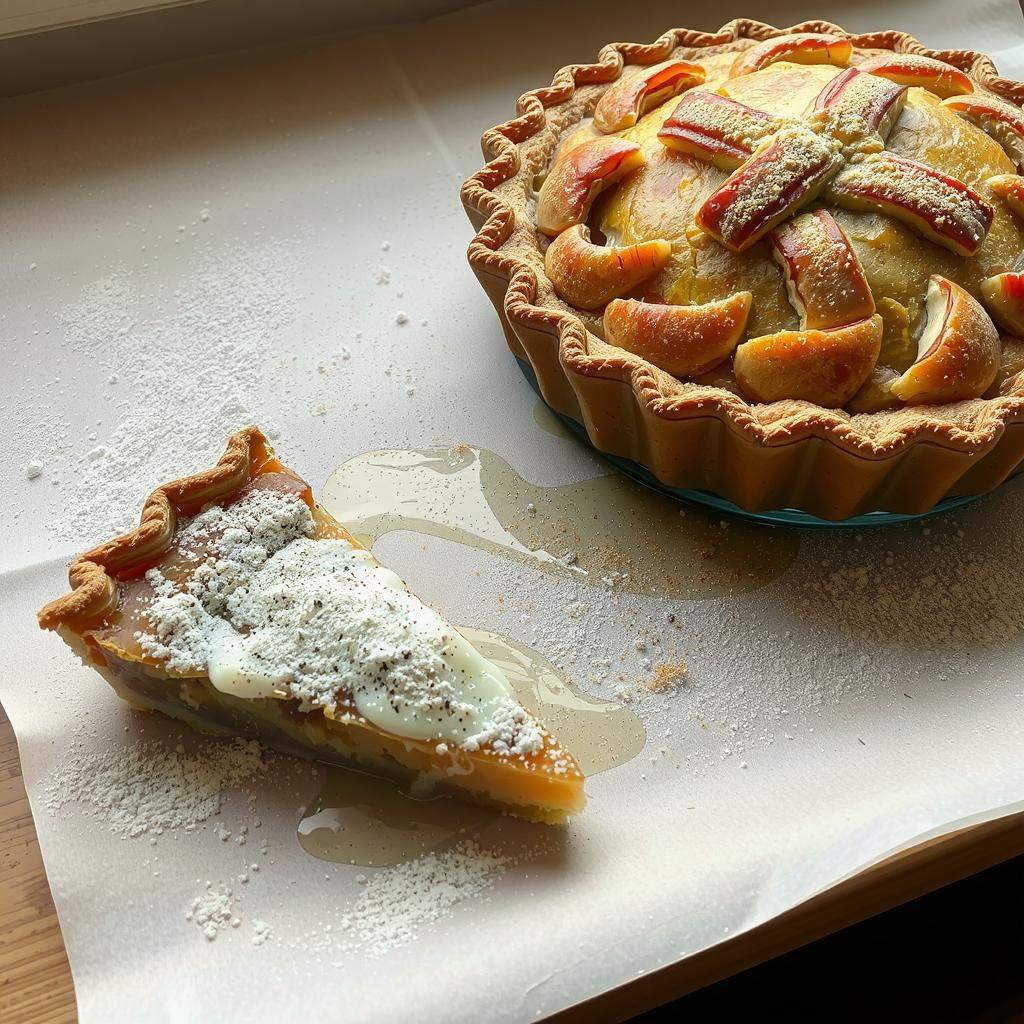pie: (459, 17, 1024, 529)
